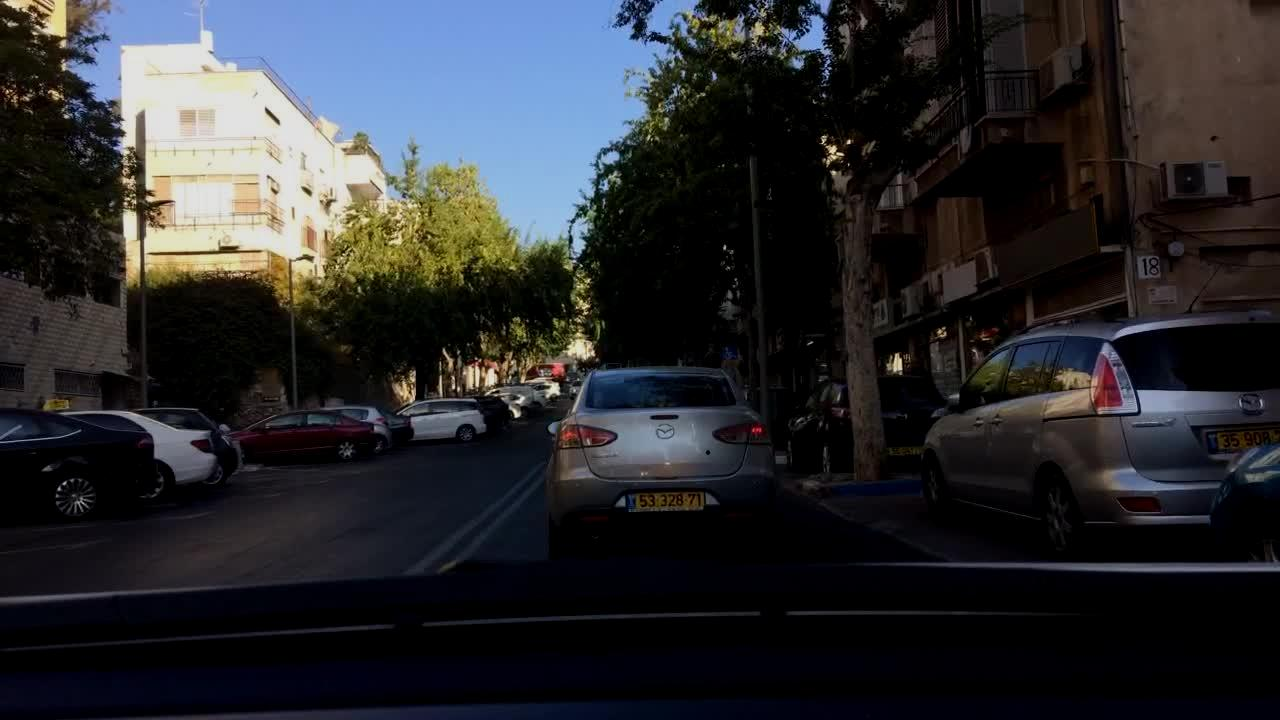Mazda: (1233, 390, 1270, 419), (653, 420, 678, 443)
